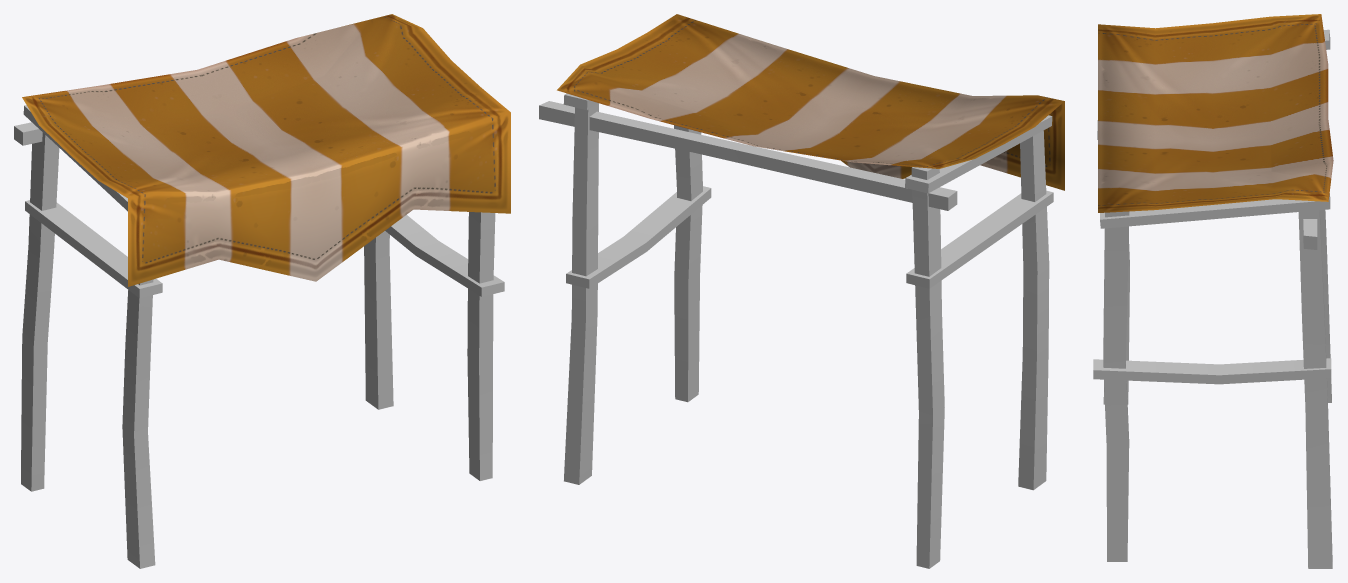
File: O_Drapes_KitPart.fbx
3 views of the same model, side by side, from view 1: azimuth 30°, elevation 25°; view 2: azimuth 150°, elevation 25°; view 3: azimuth 270°, elevation 25° (orthographic). The views are drawn at different scales.
Parts seen in each view (by area): view 1: O_Drapes, O_Drapes_KitPart; view 2: O_Drapes_KitPart, O_Drapes; view 3: O_Drapes, O_Drapes_KitPart.
Part boxes in pixels (x1,y1,x2,y2): O_Drapes: [22, 14, 510, 286]; O_Drapes_KitPart: [14, 105, 504, 568]; O_Drapes_KitPart: [539, 93, 1053, 568]; O_Drapes: [557, 14, 1064, 190]; O_Drapes: [1098, 14, 1333, 212]; O_Drapes_KitPart: [1093, 29, 1332, 568].
Bounding box in the file's own units: 302 × 280 × 159.
